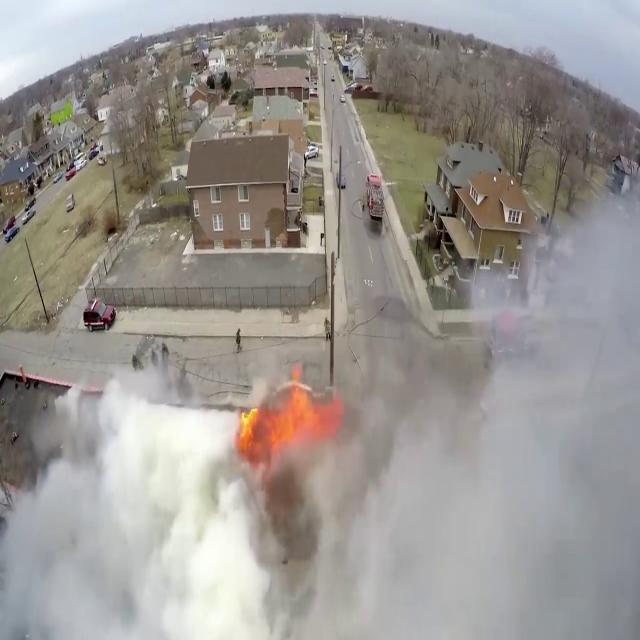Fire: (236, 354, 330, 466)
Smoke: (337, 186, 640, 639), (0, 347, 306, 640)
